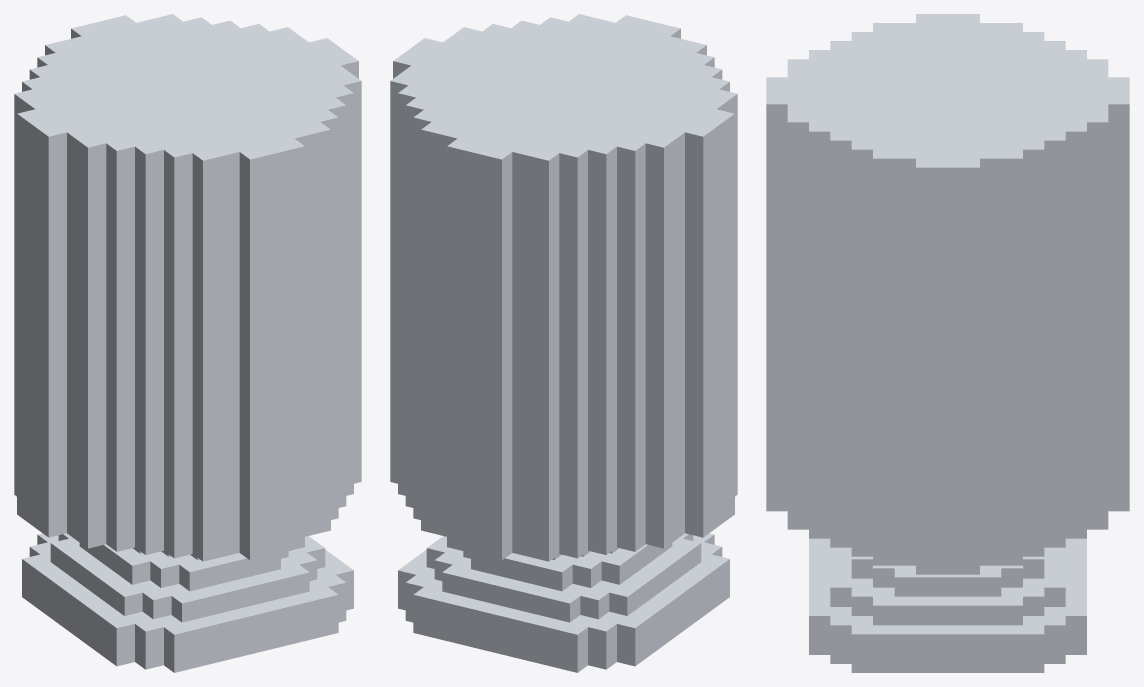
File: Lake_IV_second_stage_rocket.obj
The picture shows the model from 3 angles, left to right: view 1: azimuth 30°, elevation 25°; view 2: azimuth 150°, elevation 25°; view 3: azimuth 270°, elevation 25°; orthographic projection.
Bounding box in the file's own units: 1.7 × 2.7 × 1.7.
Materials: 1 (1 with a texture image).
